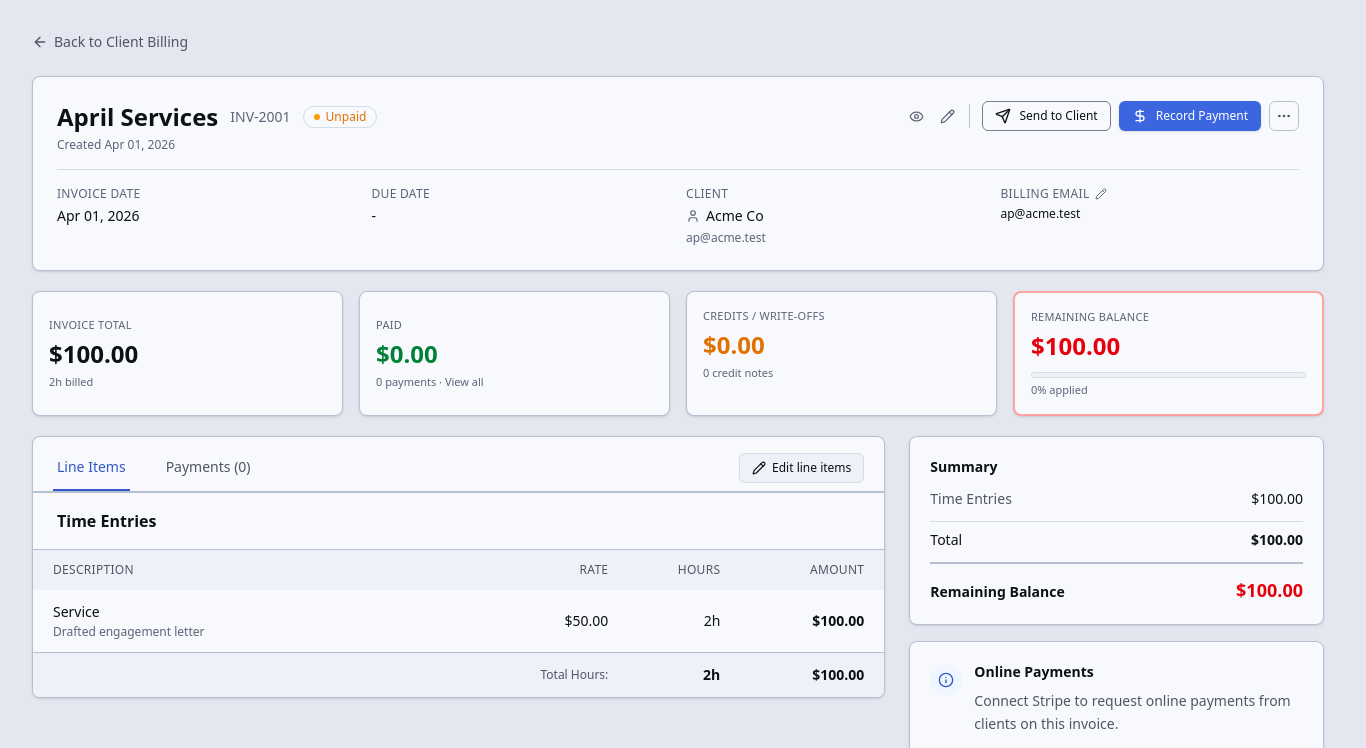
Scenario: recording a payment › refuses a payment above the remaining balance until overpayment is allowed, and sends nothing
Click the button "Record Payment" at x=1190, y=116, box [1119, 101, 1261, 131]
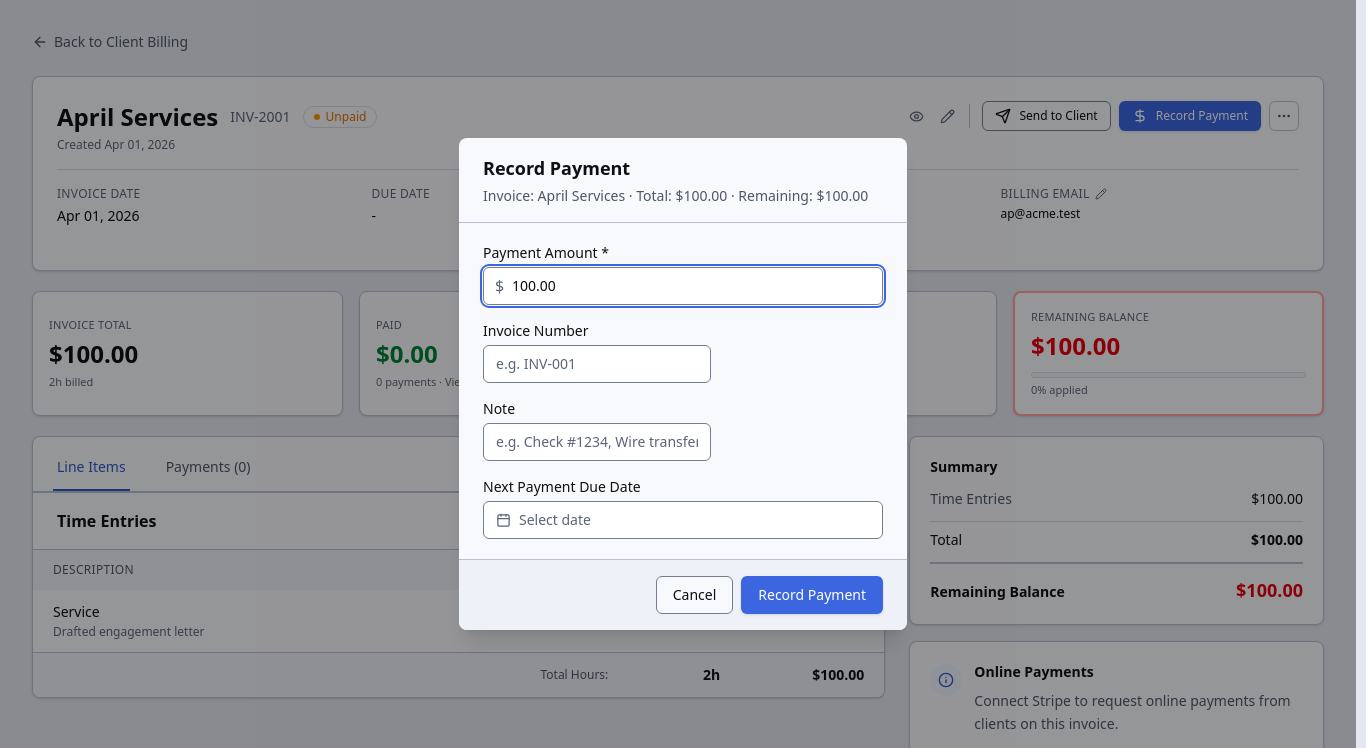
Replace the text in the number field with placeholder "0.00" with "150" at x=683, y=286, box [483, 267, 883, 305]
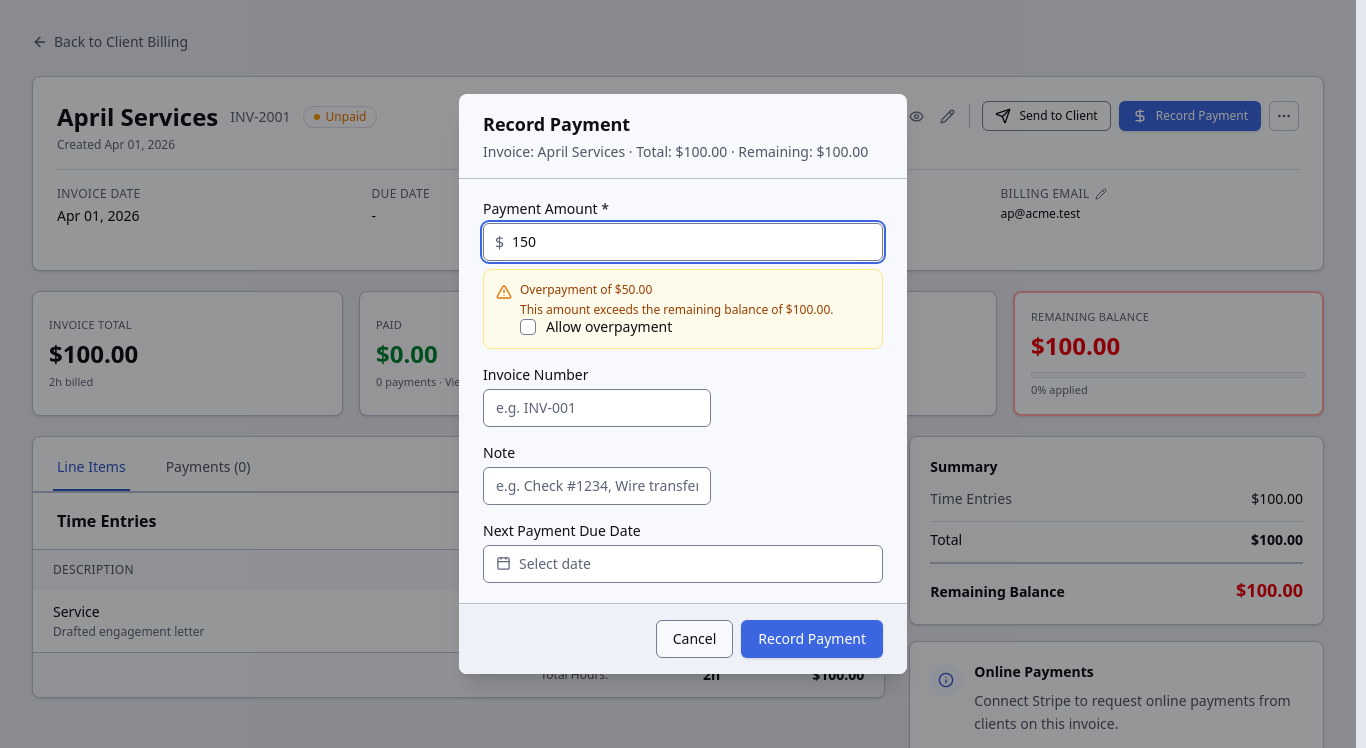
expect the text "Overpayment of $50.00" is shown: met, box [520, 281, 652, 298]
Click the button "Record Payment" at x=812, y=639, box [741, 620, 883, 658]
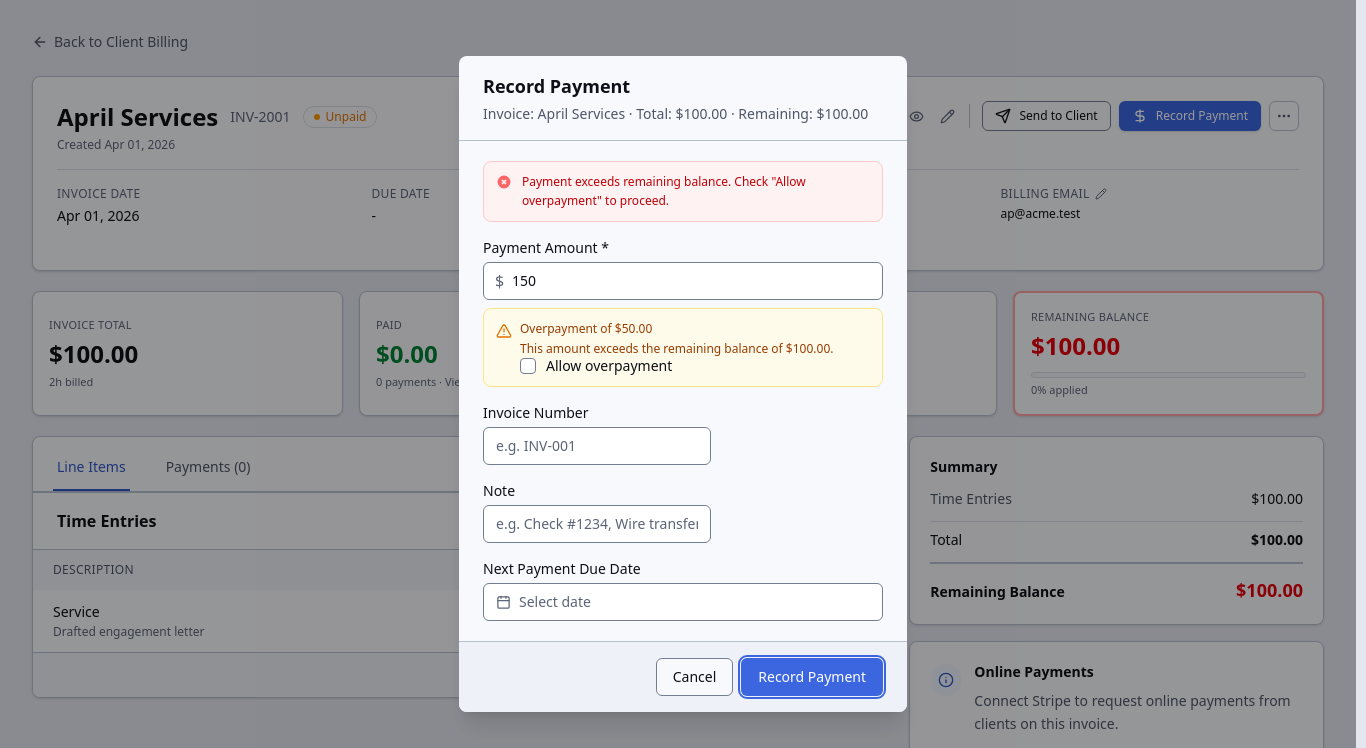
expect the dialog "Record Payment" is shown: met, box [459, 56, 907, 712]
expect the text "Payment exceeds remaining balance" is shown: met, box [522, 173, 806, 209]
